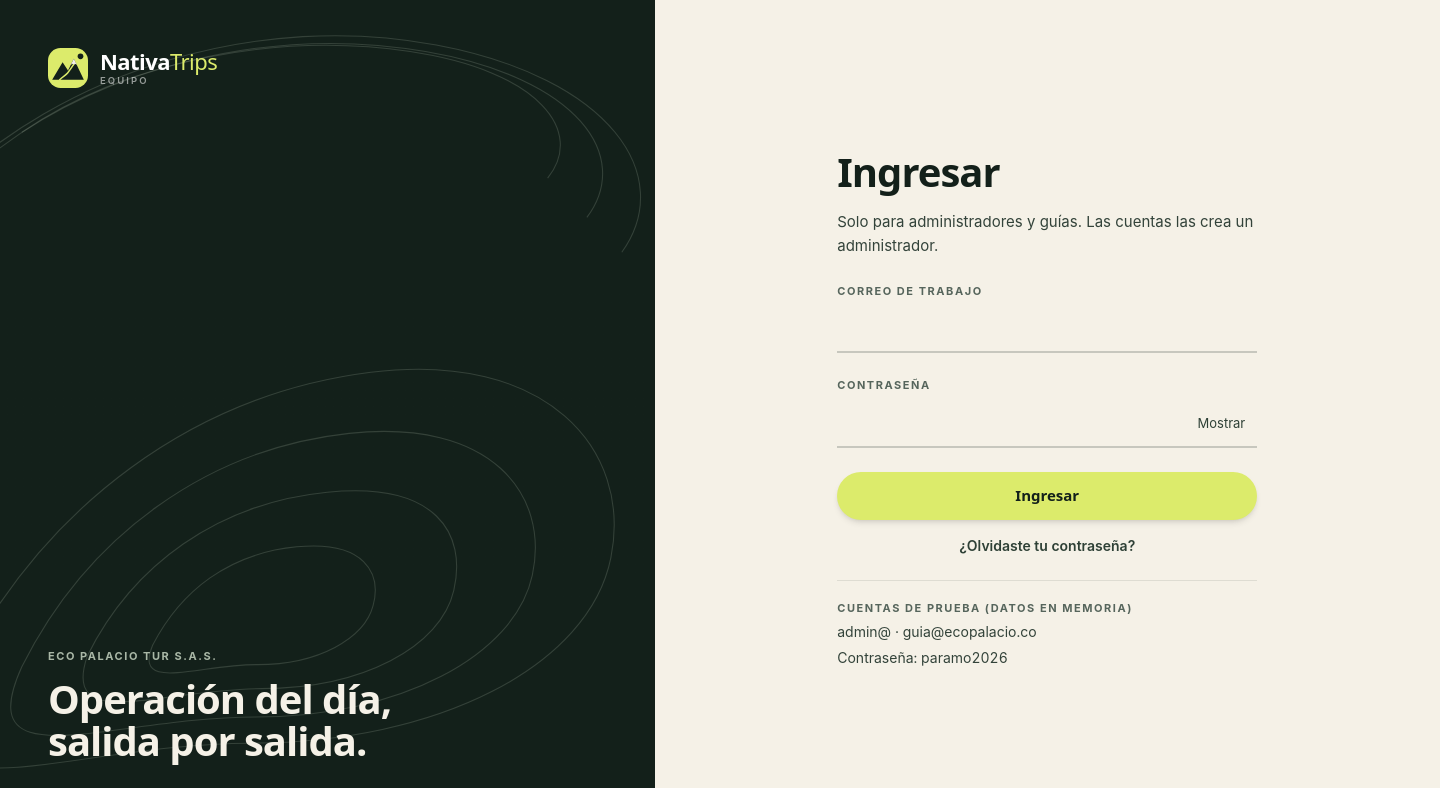
Test: acceso del equipo y paneles por rol › el administrador entra a su panel
In the field labelled "Correo de trabajo": coordinates (1047, 329) [837,305,1257,353], type "admin@ecopalacio.co"
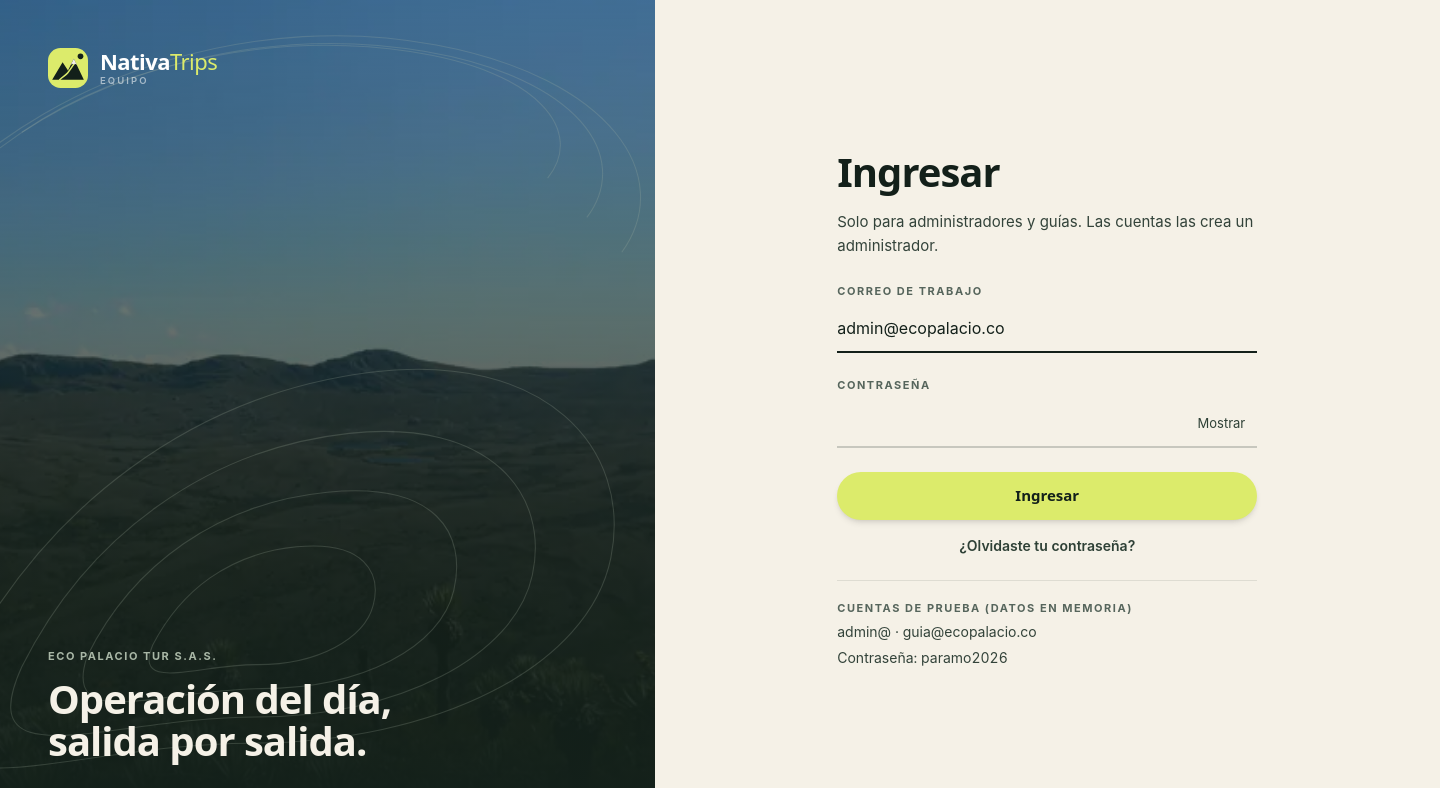
In the password field labelled "Contraseña": coordinates (1047, 424) [837,400,1257,448], type "paramo2026"
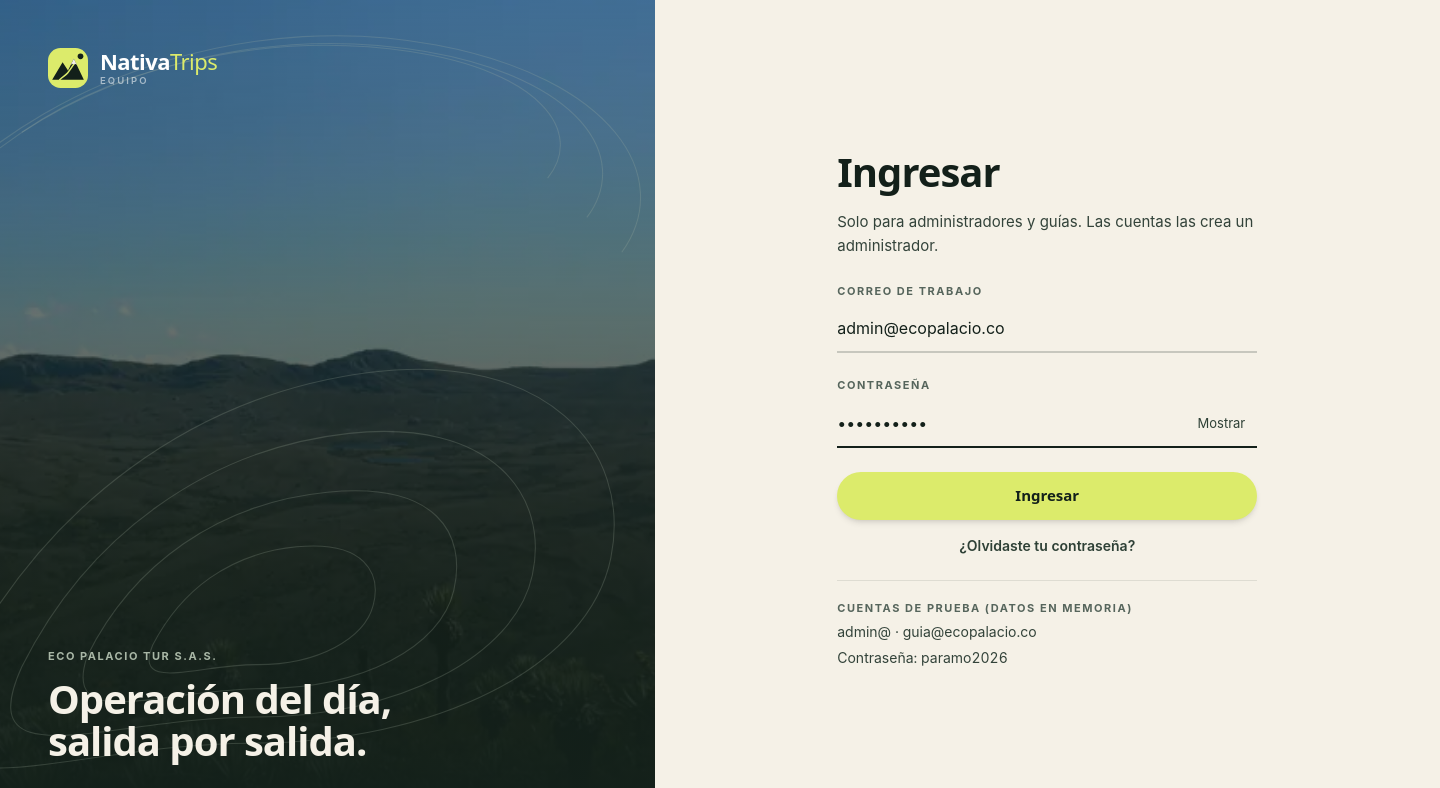
Click the button "Ingresar": coordinates (1047, 496) [837,472,1257,520]
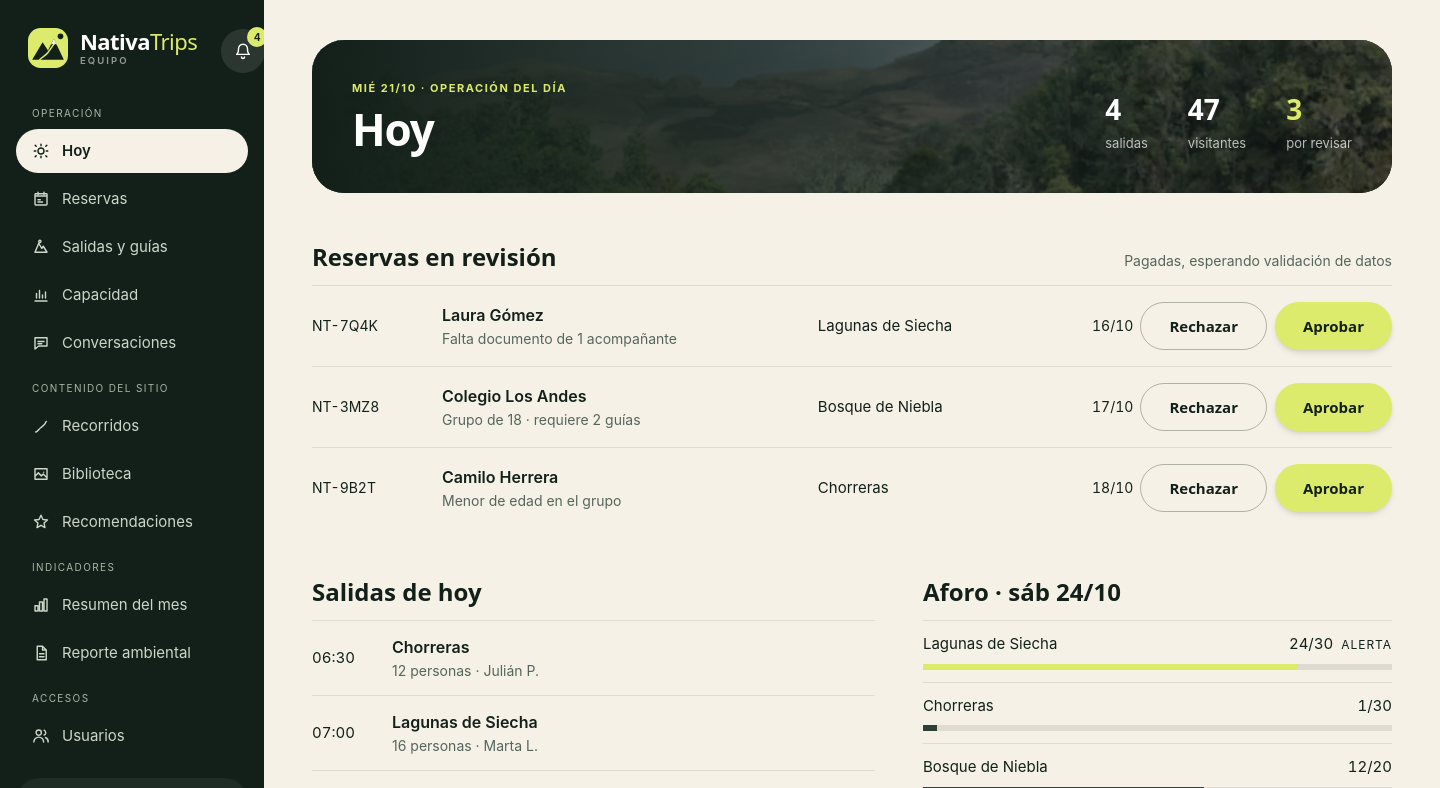
Expected: the heading "Hoy" is shown, [352,98,434,158]
